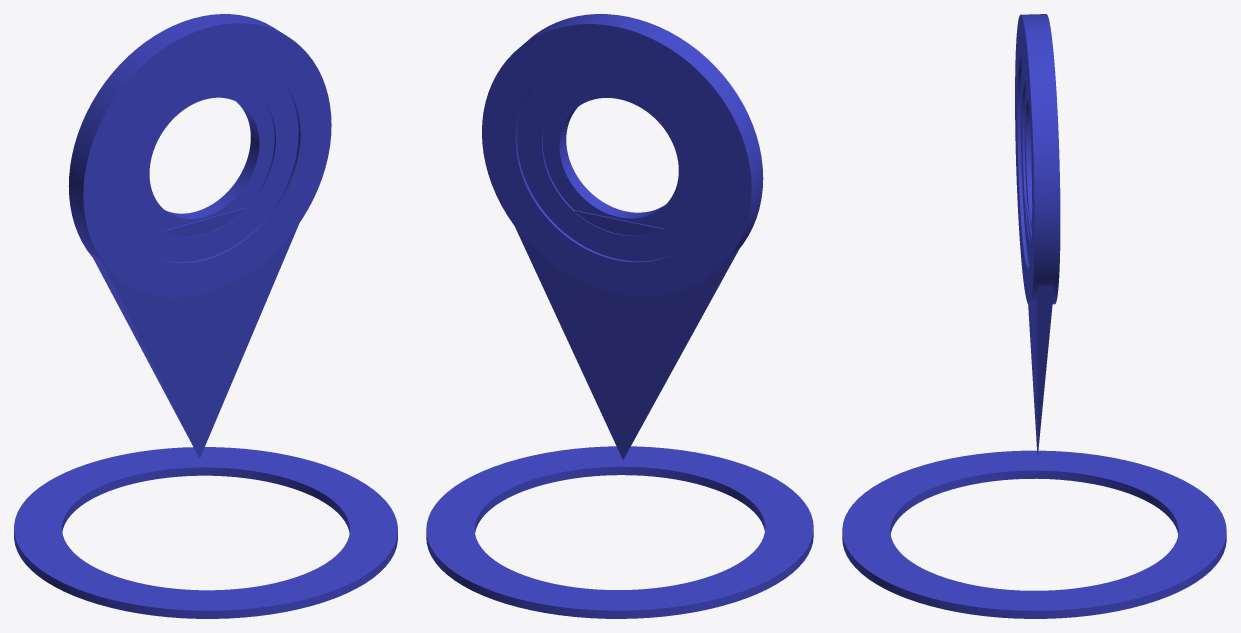
The model's file is place marker.fbx.
3 renders of one model, left to right at view 1: azimuth 30°, elevation 25°; view 2: azimuth 150°, elevation 25°; view 3: azimuth 270°, elevation 25°, orthographic.
Parts seen in each view (by area): view 1: node_id59, root, node_id50, node_id67, node_id49; view 2: node_id59, root, node_id50, node_id67, node_id49; view 3: root, node_id59, node_id50, node_id67, node_id49.
Part boxes in pixels (x1,y1,x2,y2): node_id59: (68,14,331,297); root: (14,447,397,618); node_id50: (90,207,298,458); node_id67: (114,57,298,261); node_id49: (135,81,274,230); node_id59: (482,14,763,296); root: (426,446,813,618); node_id50: (515,210,740,459); node_id67: (517,58,717,261); node_id49: (542,82,694,228); root: (842,450,1226,618); node_id59: (1015,14,1060,304); node_id50: (1025,199,1054,457); node_id67: (1020,55,1031,265); node_id49: (1024,80,1032,230).
Size of the model in its own units: 0.1761 by 0.2607 by 0.1786.
